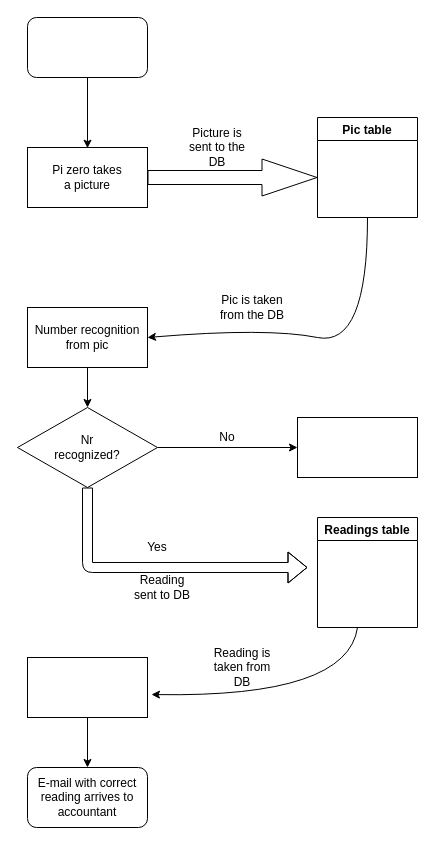
This 435x845 diagram has some shape labels left out. Each missing label, with the centre of its shape:
Reading discarded: point 357,447
Reading sent to e-mail: point 87,687
Readings on analog water meter: point 87,47
